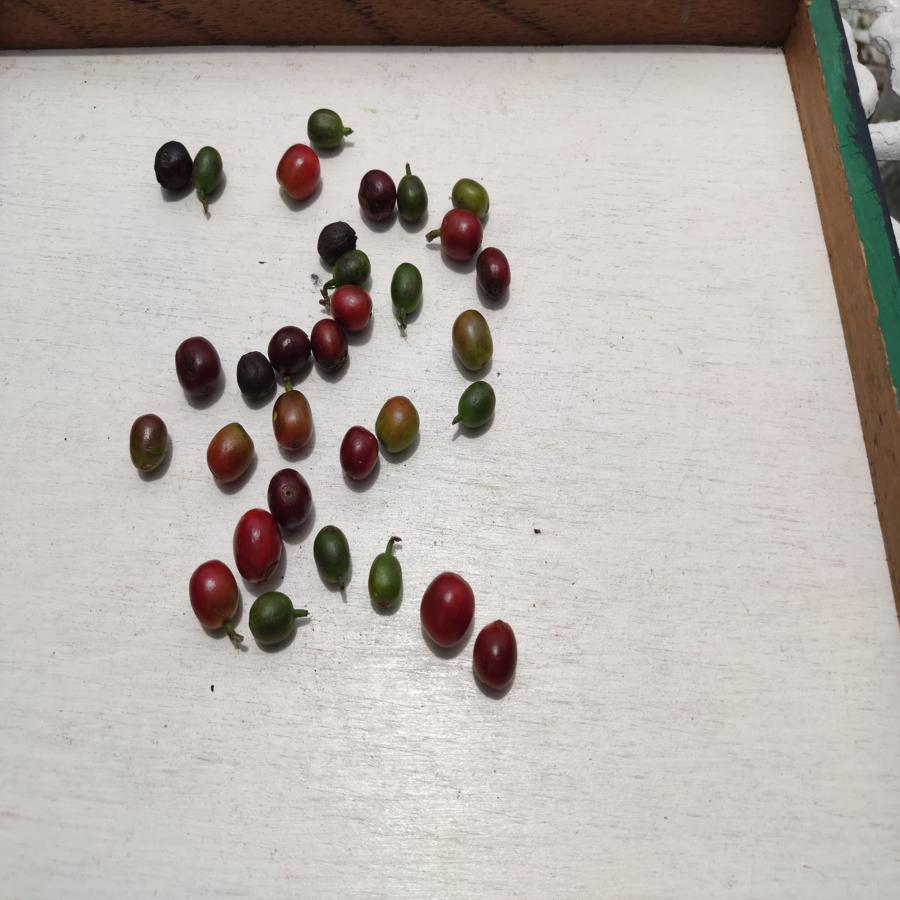Inmaduro: (246, 590, 300, 647), (312, 524, 354, 593), (452, 380, 499, 433), (364, 551, 405, 609), (387, 263, 425, 320), (193, 144, 225, 196), (307, 107, 346, 149), (398, 173, 430, 224), (330, 254, 372, 285)
Maduro: (420, 568, 473, 651), (233, 509, 282, 584), (471, 615, 517, 692), (189, 560, 240, 628), (273, 143, 322, 201), (436, 208, 480, 261), (331, 284, 373, 330)
Pinton: (450, 310, 493, 374), (208, 422, 253, 483), (378, 394, 421, 455), (273, 390, 313, 452), (131, 412, 167, 473), (452, 176, 492, 208)
Sobremaduro: (171, 334, 222, 398), (265, 468, 314, 528), (339, 424, 380, 480), (152, 141, 193, 193), (357, 169, 397, 222), (267, 326, 310, 375), (312, 319, 348, 376), (236, 350, 275, 401), (476, 246, 511, 301), (315, 221, 359, 252)
